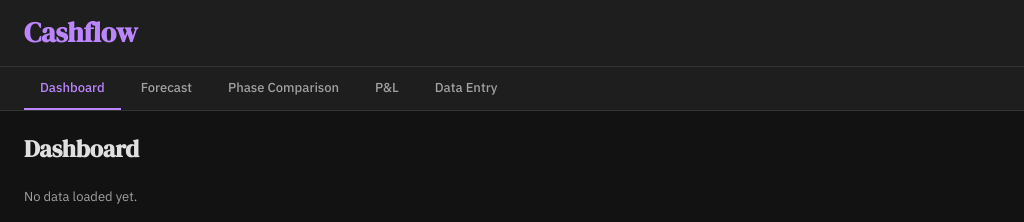
Test: App › switches to the Forecast tab when clicked
Click the button "Forecast".
click(166, 88)  # box top-left (125, 67), bottom-right (208, 110)
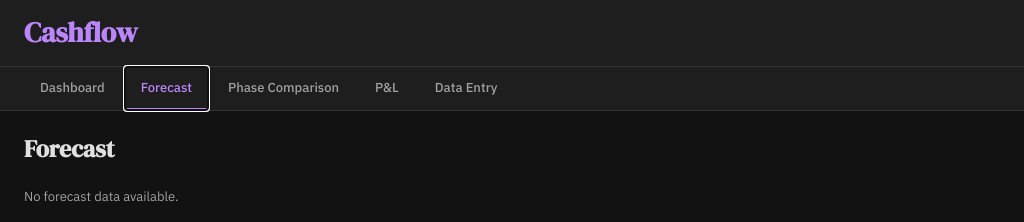
Check: the text "No forecast data available." is shown, box top-left (24, 188), bottom-right (178, 205)
